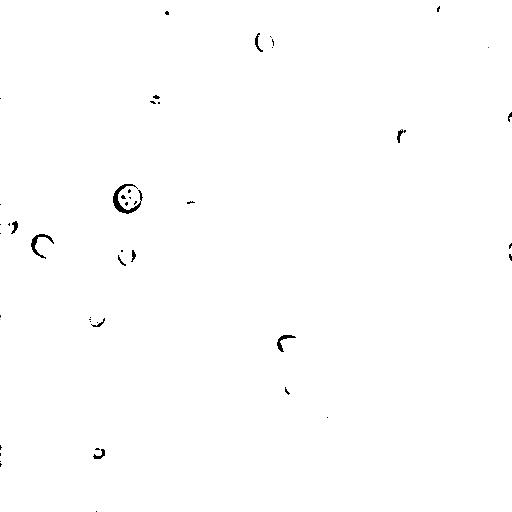micro-algae: (1, 282, 62, 351), (51, 14, 95, 59), (471, 19, 511, 63), (45, 232, 81, 266), (111, 183, 145, 215), (435, 37, 467, 69), (276, 335, 306, 359), (393, 121, 417, 150), (29, 233, 55, 259), (253, 29, 276, 55), (156, 1, 175, 27), (179, 200, 201, 220), (283, 378, 302, 401), (88, 305, 106, 329), (435, 1, 455, 21), (118, 246, 138, 266), (0, 215, 17, 238), (1, 446, 13, 467), (89, 446, 108, 459), (507, 110, 512, 131), (507, 241, 512, 260)
